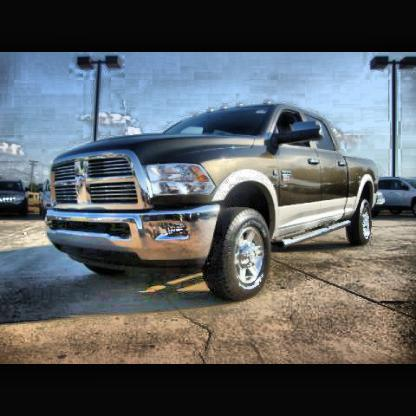Dodge Ram Pickup 3500 Crew Cab 2010: (46, 104, 380, 302)
